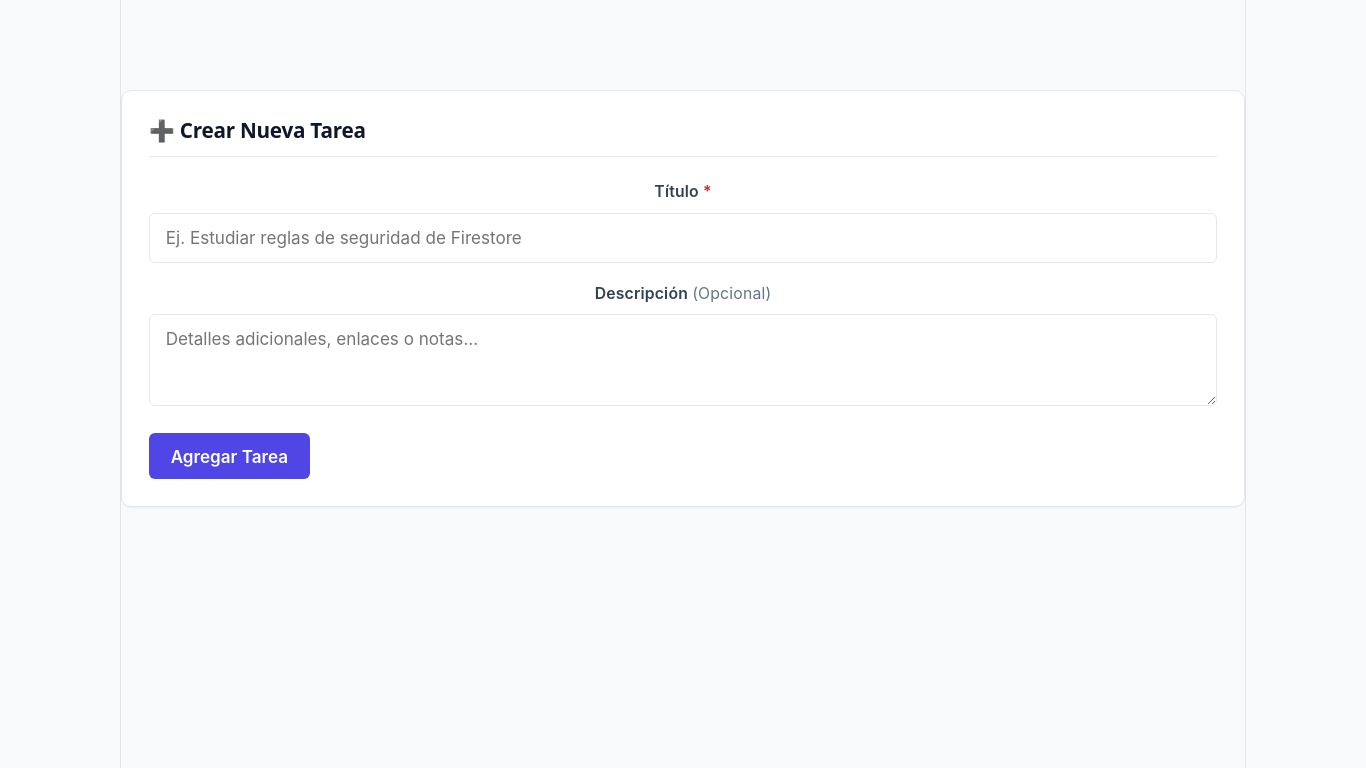
Scenario: TaskForm Component › envía los datos válidos y limpia los campos
Type "Completar proyecto" into the field labelled "Título *" at (683, 238), box top-left (149, 213), bottom-right (1217, 263)
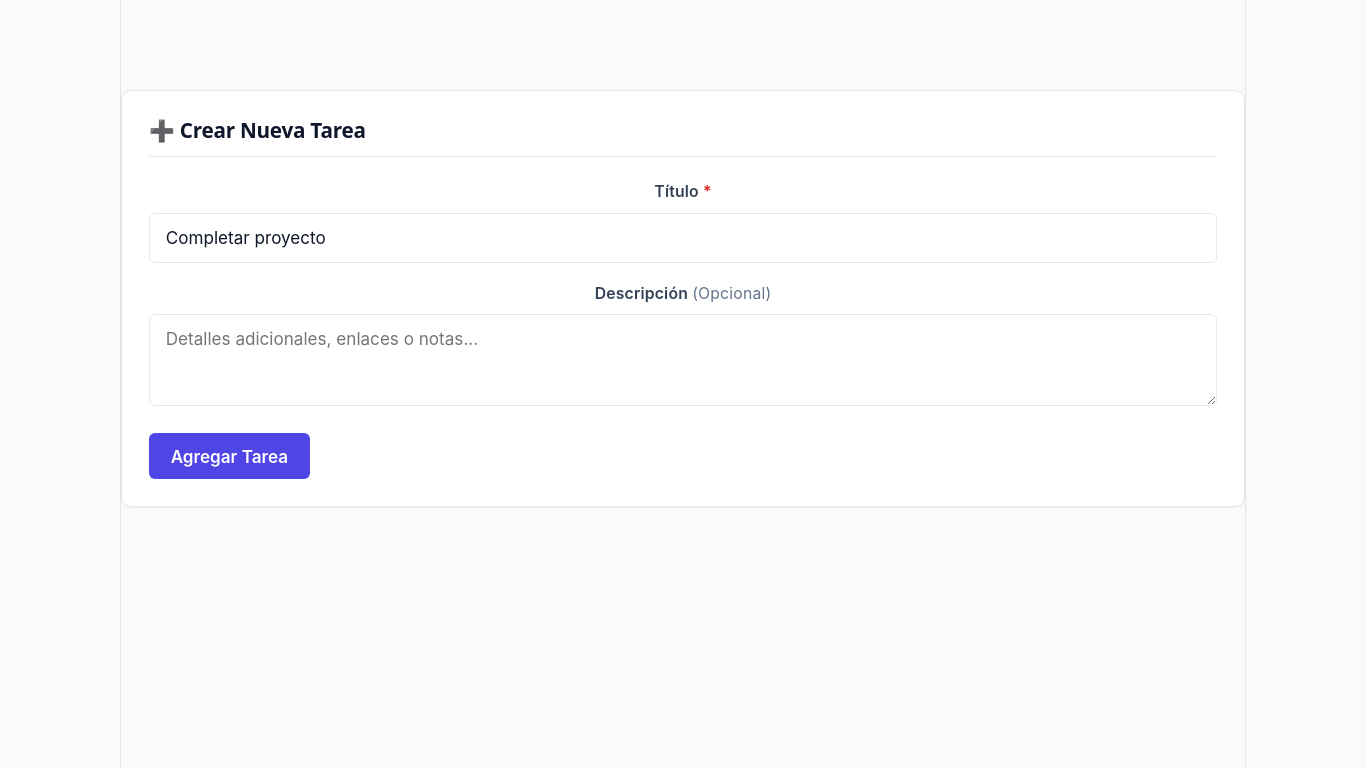
Type "Detalle de la tarea" into the text box labelled "Descripción (Opcional)" at (683, 360), box top-left (149, 314), bottom-right (1217, 406)
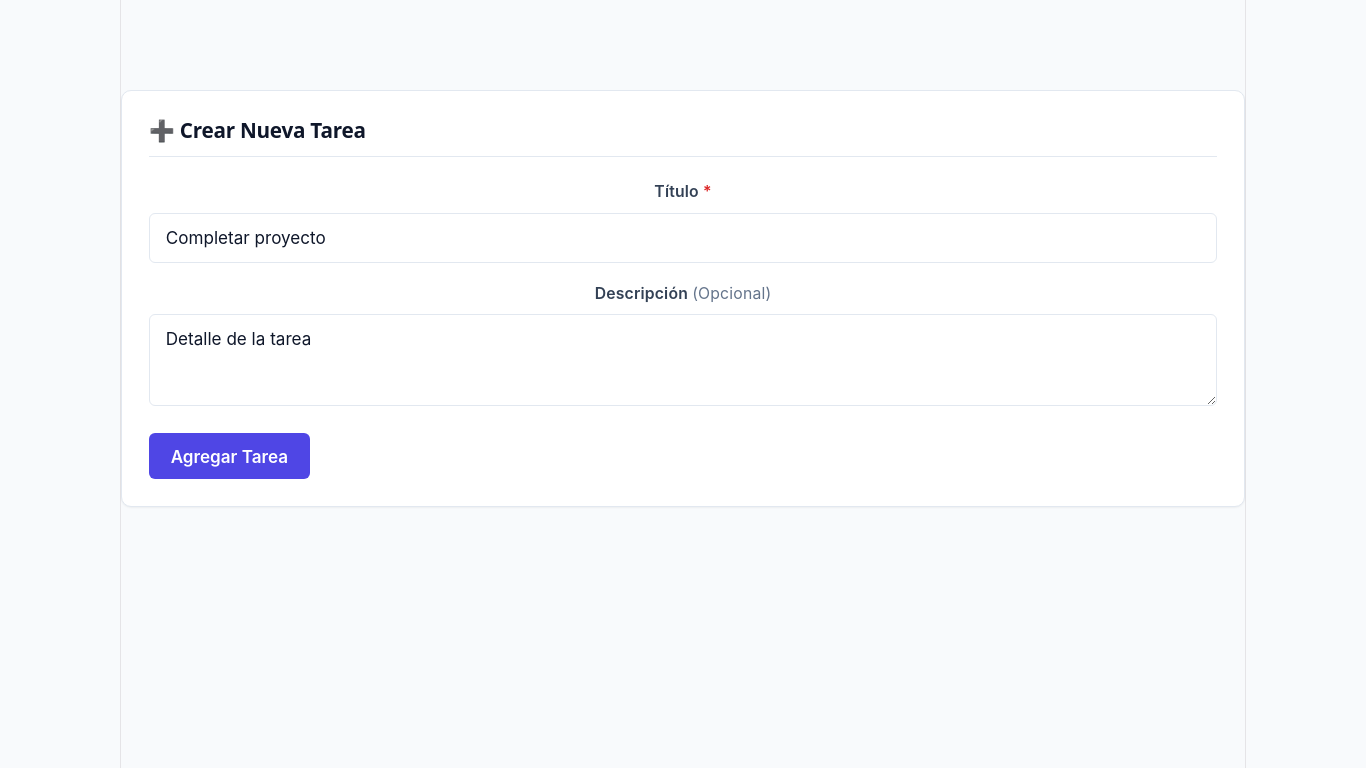
Click the button "Agregar Tarea" at (229, 456), box top-left (149, 433), bottom-right (310, 479)
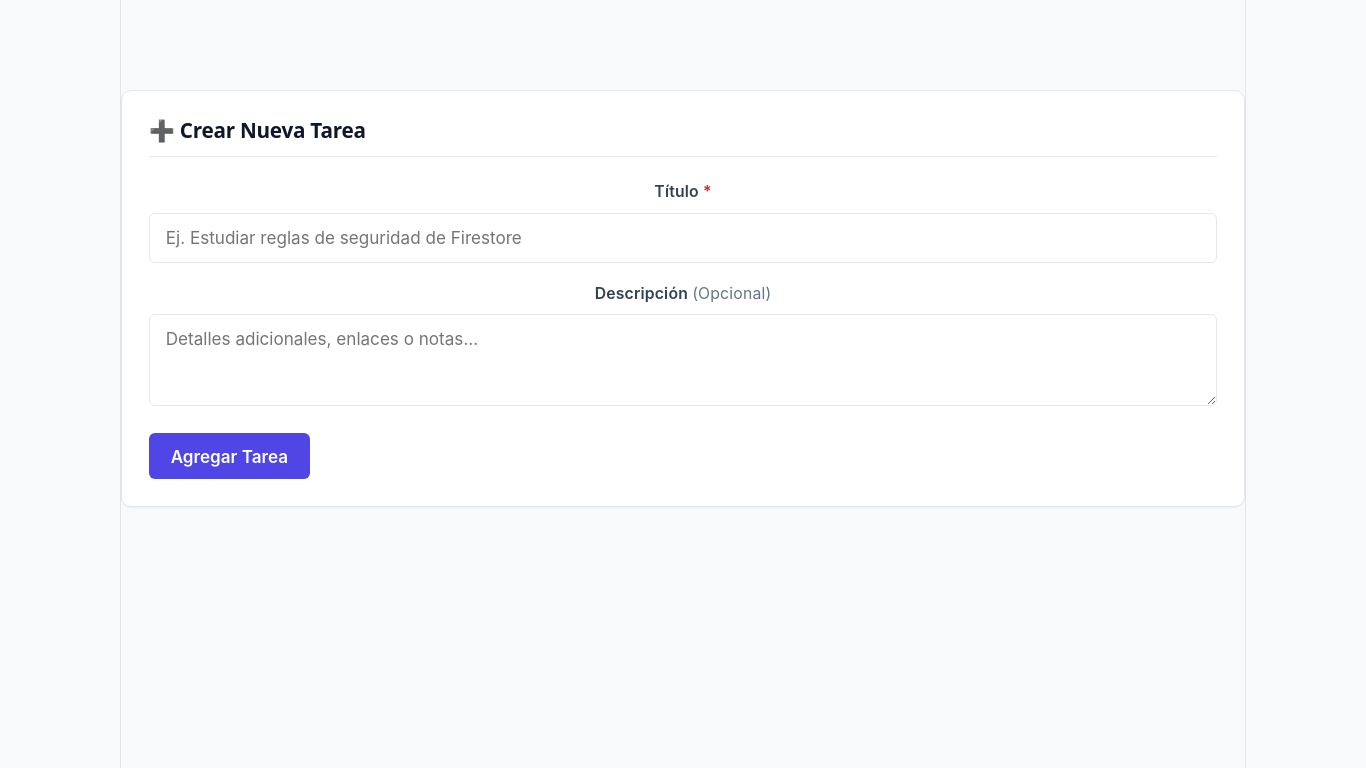
Result: the field labelled "Título *" is empty at top-left (149, 213), bottom-right (1217, 263)
Result: the text box labelled "Descripción (Opcional)" is empty at top-left (149, 314), bottom-right (1217, 406)
